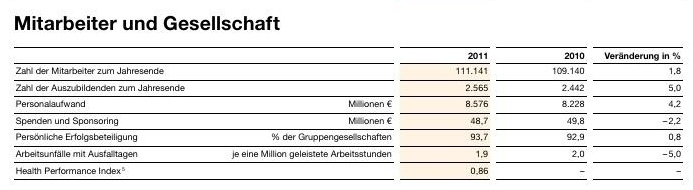table: (0, 0, 693, 190)
